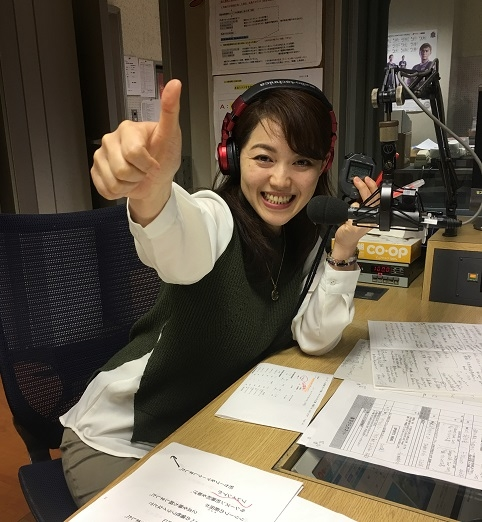face: (239, 116, 329, 226)
hand: (88, 75, 184, 200), (331, 175, 382, 257)
